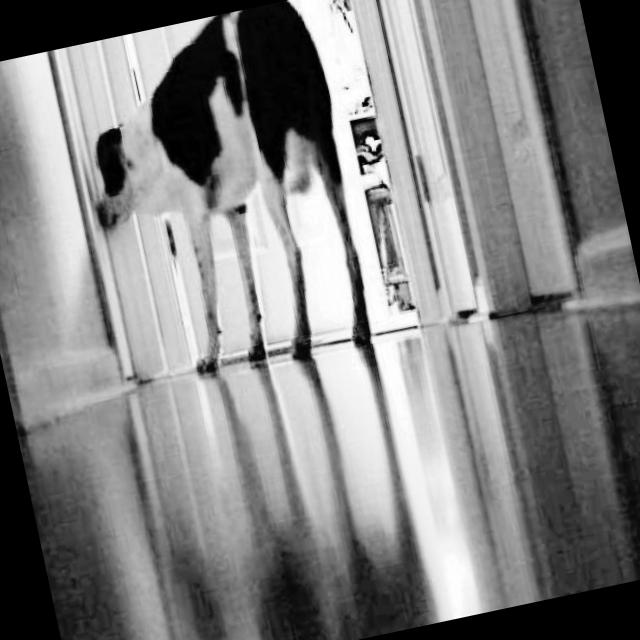Dog: (58, 0, 399, 411)
